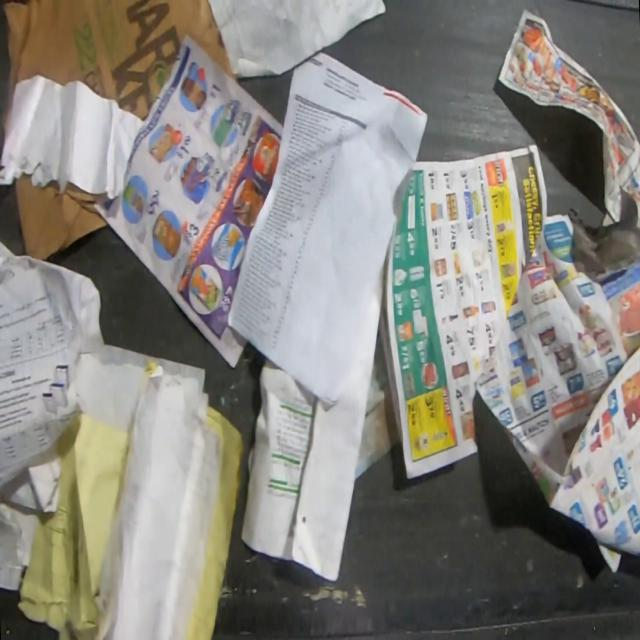cardboard: (4, 1, 236, 124), (12, 175, 110, 262)
